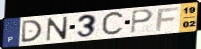3: (75, 13, 100, 39)
C: (100, 10, 126, 38)
D: (20, 19, 44, 44)
F: (154, 6, 180, 32)
N: (45, 16, 69, 42)
P: (130, 9, 155, 35)
